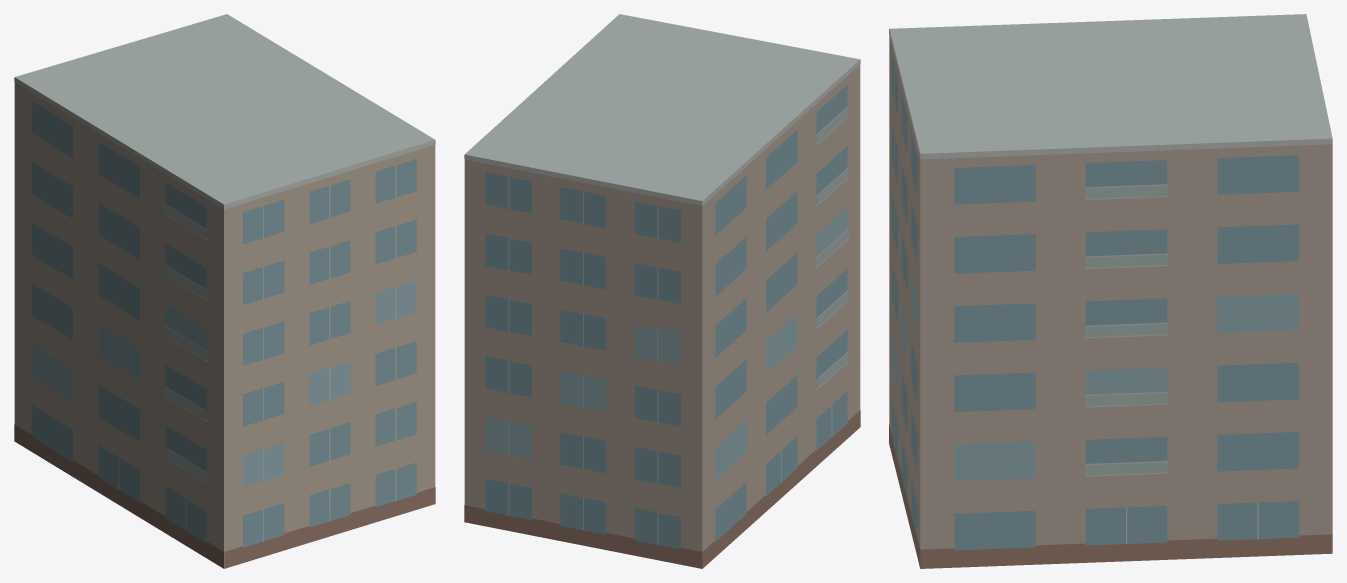
Rendered from survey-upis-32739822.glb.
3 views of the same model, side by side, from view 1: azimuth 30°, elevation 25°; view 2: azimuth 150°, elevation 25°; view 3: azimuth 270°, elevation 25° (orthographic). The views are drawn at different scales.
Visible parts, largest first — view 1: survey-upis-32739822.tmp; view 2: survey-upis-32739822.tmp; view 3: survey-upis-32739822.tmp.
Boxes of the visible parts, bbox=[...] form: survey-upis-32739822.tmp: bbox=[14, 14, 435, 568]; survey-upis-32739822.tmp: bbox=[464, 14, 860, 568]; survey-upis-32739822.tmp: bbox=[889, 14, 1332, 568].
Bounding box in the file's own units: 13.02 × 18 × 17.44.
